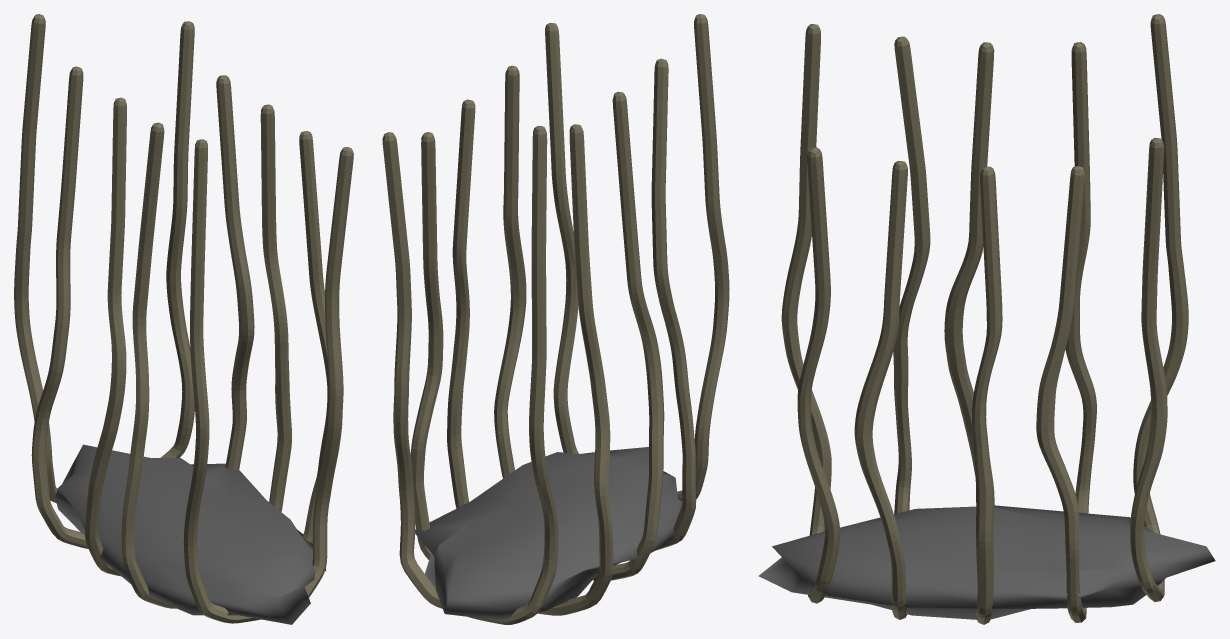
File: floting_stone_2.fbx
3 renders of one model, left to right at view 1: azimuth 30°, elevation 25°; view 2: azimuth 150°, elevation 25°; view 3: azimuth 270°, elevation 25°, orthographic. The views are drawn at different scales.
Parts seen in each view (by area): view 1: Cube.002; view 2: Cube.002; view 3: Cube.002.
Part boxes in pixels (left/top/right/bottom): Cube.002: left=14, top=14, right=353, bottom=624; Cube.002: left=382, top=14, right=729, bottom=624; Cube.002: left=758, top=14, right=1215, bottom=624.
Bounding box in the file's own units: 71.33 × 168 × 125.
